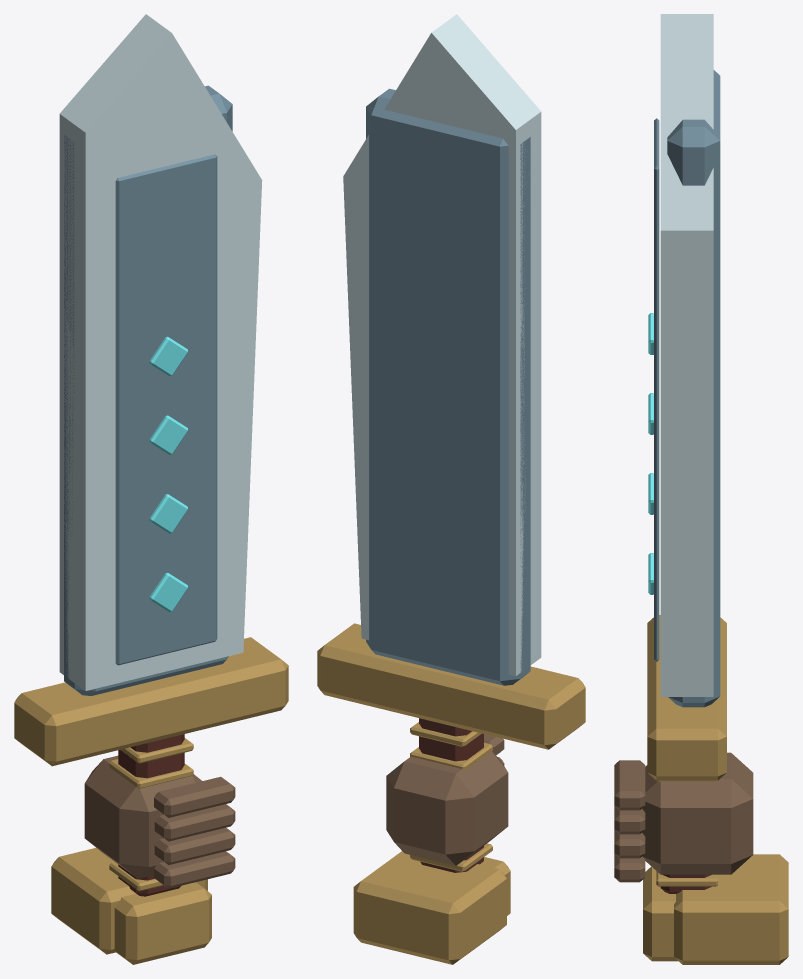
Rendered from heavyblade.glb.
The picture shows the model from 3 angles, left to right: view 1: azimuth 30°, elevation 25°; view 2: azimuth 150°, elevation 25°; view 3: azimuth 270°, elevation 25°; orthographic projection. The views are drawn at different scales.
Visible parts, largest first — view 1: Silver bevel outline, Dark blade inset, Broad crossguard, Visible gauntlet, Pommel, Wrist cuff, Blade spine, Gloved finger 03, Wrapped grip, Gloved finger 00, Gloved finger 02, Gloved finger 01 (+6 smaller); view 2: Blade spine, Silver bevel outline, Broad crossguard, Wrist cuff, Visible gauntlet, Wrapped grip, Grip binding 04, Grip binding 05, Grip binding 00; view 3: Silver bevel outline, Visible gauntlet, Wrist cuff, Blade spine, Broad crossguard, Dark blade inset, Pommel, Gloved finger 03, Gloved finger 00, Gloved finger 01, Gloved finger 02, Grip binding 00 (+1 smaller).
Boxes of the visible parts, left/top/right/bottom form: Silver bevel outline: left=59, top=14, right=262, bottom=690; Dark blade inset: left=115, top=154, right=217, bottom=665; Broad crossguard: left=14, top=637, right=288, bottom=766; Visible gauntlet: left=84, top=755, right=201, bottom=878; Pommel: left=114, top=882, right=211, bottom=964; Wrist cuff: left=51, top=848, right=207, bottom=954; Blade spine: left=64, top=85, right=232, bottom=695; Gloved finger 03: left=154, top=776, right=235, bottom=817; Wrapped grip: left=118, top=734, right=184, bottom=896; Gloved finger 00: left=154, top=851, right=235, bottom=888; Gloved finger 02: left=154, top=804, right=235, bottom=841; Gloved finger 01: left=154, top=827, right=235, bottom=865; Blade spine: left=366, top=88, right=530, bottom=685; Silver bevel outline: left=343, top=14, right=541, bottom=676; Broad crossguard: left=317, top=623, right=585, bottom=749; Wrist cuff: left=353, top=851, right=506, bottom=964; Visible gauntlet: left=386, top=751, right=508, bottom=865; Wrapped grip: left=419, top=718, right=483, bottom=872; Grip binding 04: left=410, top=742, right=492, bottom=770; Grip binding 05: left=410, top=722, right=481, bottom=746; Grip binding 00: left=410, top=843, right=492, bottom=871; Silver bevel outline: left=660, top=14, right=713, bottom=696; Visible gauntlet: left=642, top=752, right=753, bottom=874; Wrist cuff: left=674, top=854, right=788, bottom=964; Blade spine: left=667, top=70, right=720, bottom=707; Broad crossguard: left=647, top=615, right=726, bottom=780; Dark blade inset: left=654, top=118, right=659, bottom=661; Pommel: left=643, top=866, right=678, bottom=961; Gloved finger 03: left=614, top=760, right=645, bottom=810; Gloved finger 00: left=614, top=854, right=645, bottom=882; Gloved finger 01: left=614, top=830, right=645, bottom=858; Gloved finger 02: left=614, top=806, right=645, bottom=834; Grip binding 00: left=656, top=871, right=717, bottom=886.
Size of the model in its own units: 0.65 by 2.34 by 0.395.
